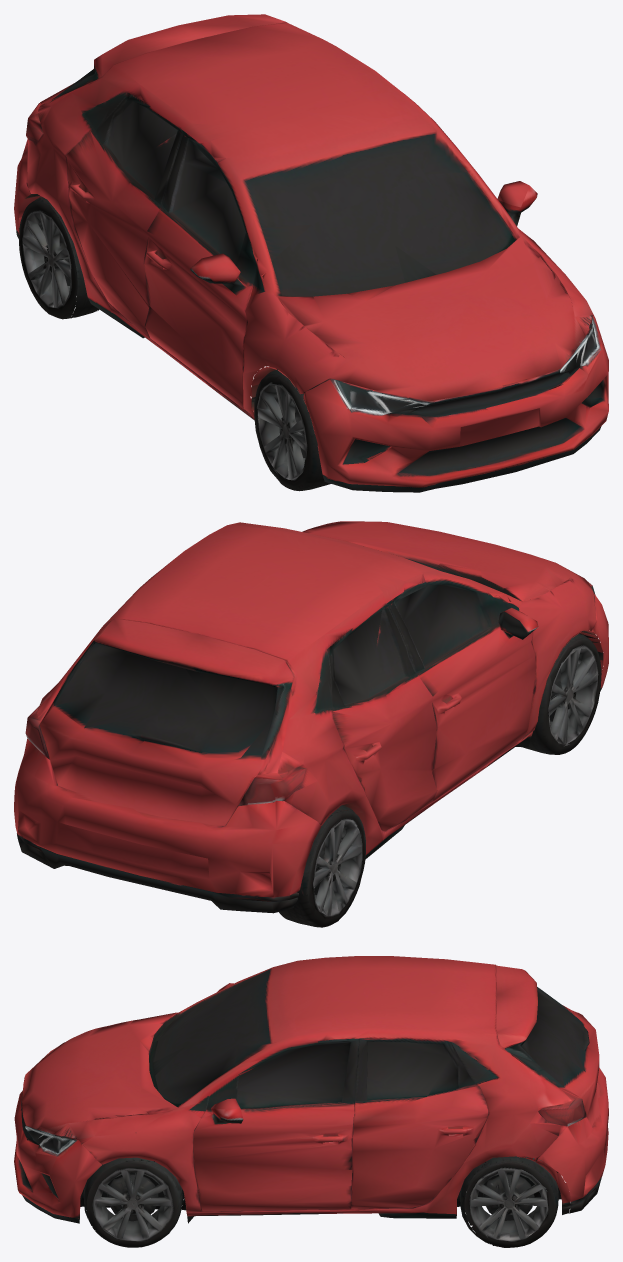
Rendered from version_b.glb.
The picture shows the model from 3 angles, top to bottom: view 1: azimuth 30°, elevation 25°; view 2: azimuth 150°, elevation 25°; view 3: azimuth 270°, elevation 25°; orthographic projection. The views are drawn at different scales.
Visible parts, largest first — view 1: Body, Wheel_FL, Wheel_RL; view 2: Body, Wheel_FL, Wheel_RL; view 3: Body, Wheel_RR, Wheel_FR.
Boxes of the visible parts, left/top/right/bottom form: Body: left=14, top=14, right=608, bottom=492; Wheel_FL: left=250, top=366, right=330, bottom=491; Wheel_RL: left=18, top=197, right=98, bottom=319; Body: left=14, top=521, right=608, bottom=913; Wheel_FL: left=523, top=630, right=603, bottom=754; Wheel_RL: left=279, top=810, right=365, bottom=927; Body: left=14, top=956, right=608, bottom=1244; Wheel_RR: left=464, top=1156, right=570, bottom=1247; Wheel_FR: left=86, top=1159, right=186, bottom=1247.
Size of the model in its own units: 1.4 by 1.01 by 2.65.
Materials: 1 (1 with a texture image).
